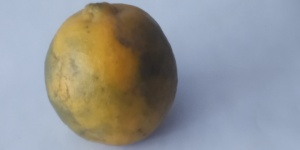BAD: (42, 1, 181, 147)
